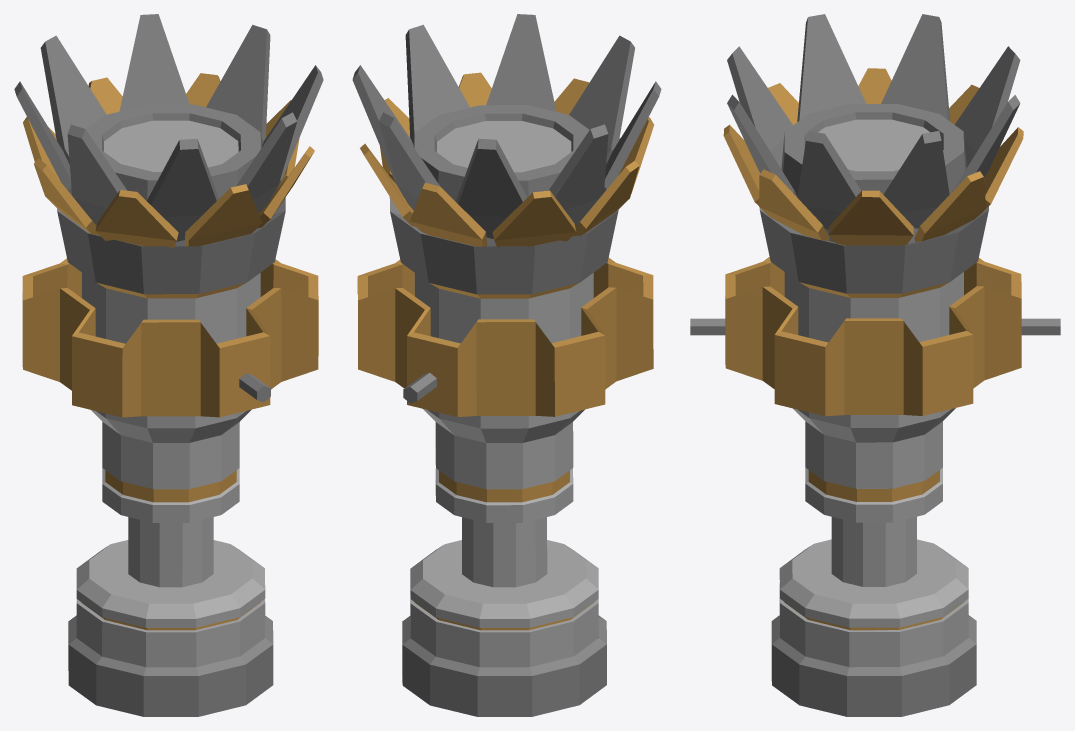
File: Props_Statue.glb
The picture shows the model from 3 angles, left to right: view 1: azimuth 30°, elevation 25°; view 2: azimuth 150°, elevation 25°; view 3: azimuth 270°, elevation 25°; orthographic projection.
Parts seen in each view (by area): view 1: Props_Statue; view 2: Props_Statue; view 3: Props_Statue.
Part boxes in pixels (x1,y1,x2,y2): Props_Statue: (14, 14, 323, 716); Props_Statue: (352, 14, 661, 716); Props_Statue: (690, 14, 1060, 716).
Size of the model in its own units: 1.18 by 2.61 by 1.46.
